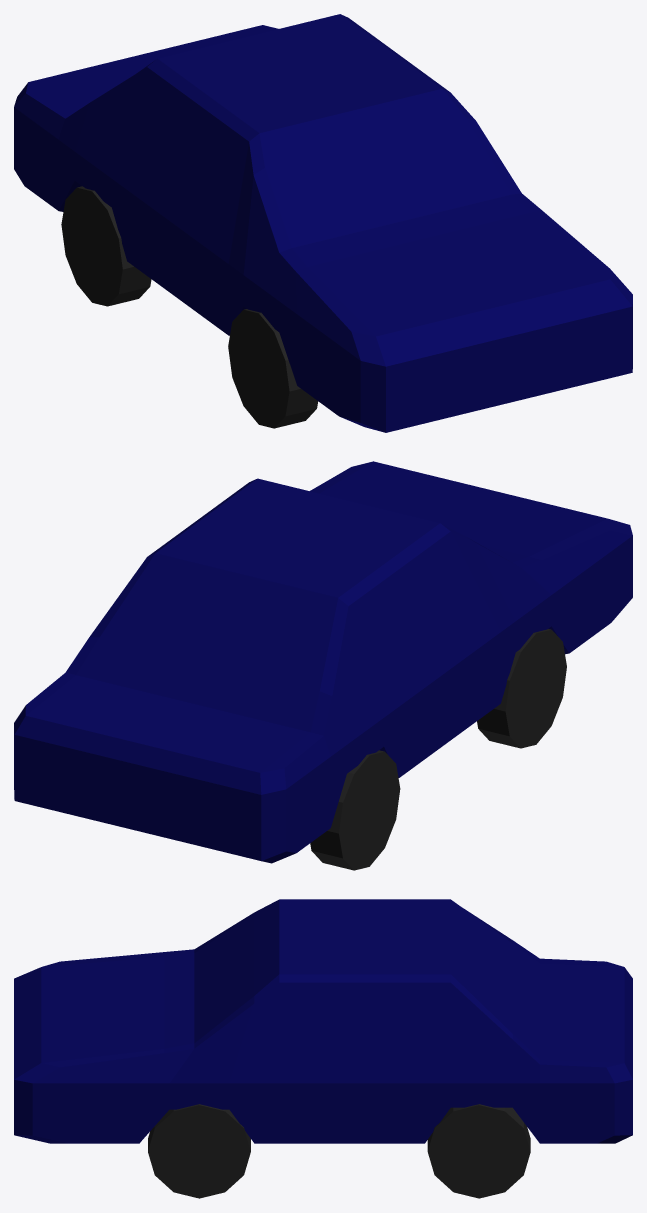
The model's file is Car01.fbx.
The picture shows the model from 3 angles, top to bottom: view 1: azimuth 30°, elevation 25°; view 2: azimuth 150°, elevation 25°; view 3: azimuth 270°, elevation 25°; orthographic projection. The views are drawn at different scales.
Parts seen in each view (by area): view 1: polySurface1, polySurface2, polySurface3; view 2: polySurface1, polySurface3, polySurface2; view 3: polySurface1, polySurface5, polySurface4.
Boxes of the visible parts, x1=… form: polySurface1: x1=14, y1=14, x2=632, y2=432; polySurface2: x1=228, y1=309, x2=318, y2=428; polySurface3: x1=61, y1=186, x2=151, y2=306; polySurface1: x1=14, y1=461, x2=632, y2=863; polySurface3: x1=310, y1=750, x2=400, y2=870; polySurface2: x1=477, y1=629, x2=566, y2=748; polySurface1: x1=14, y1=899, x2=632, y2=1143; polySurface5: x1=427, y1=1104, x2=530, y2=1198; polySurface4: x1=148, y1=1104, x2=250, y2=1198.
Size of the model in its own units: 4.68 by 3.95 by 10.78.
